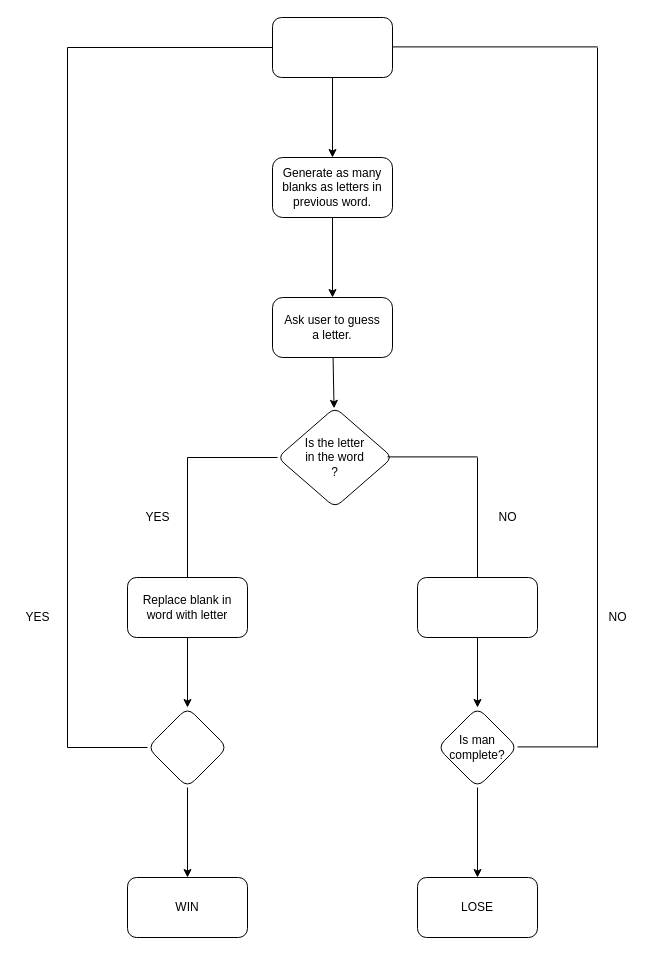
Image size: 649x955. Some labels were removed from this diagram. The centre of each missing label's shape, as x and y in pixels:
"Add limb to body." belongs at [477,607].
"Geenrate a random word." belongs at [332,47].
"Is word complete?" belongs at [187,747].
